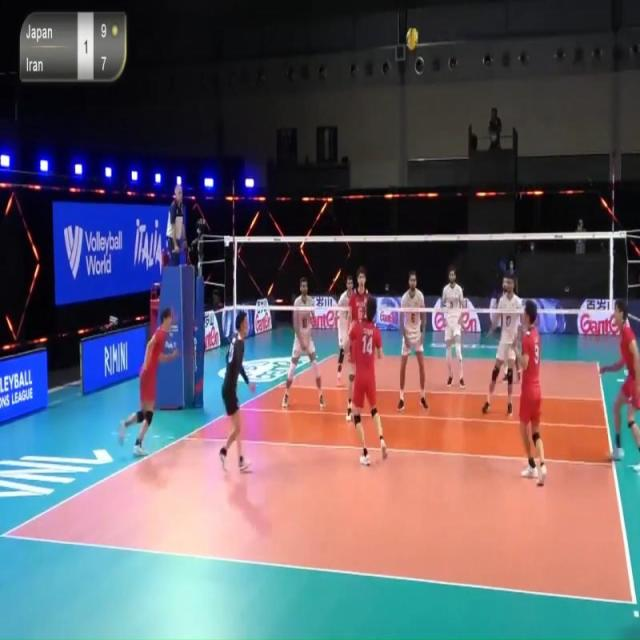volleyball: (405, 26, 419, 49)
